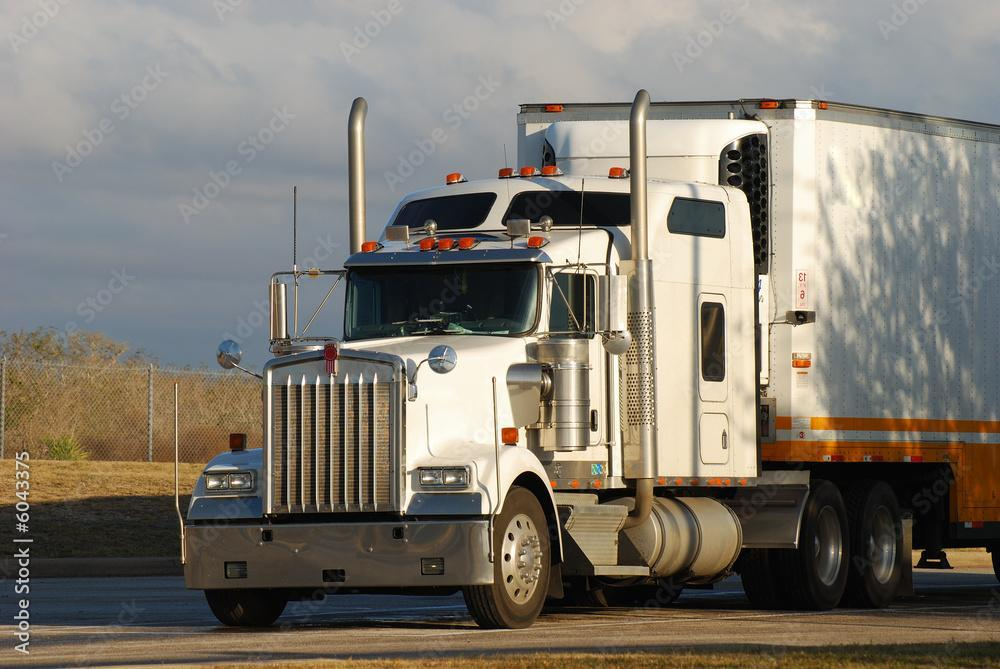truck: (117, 80, 1000, 620)
